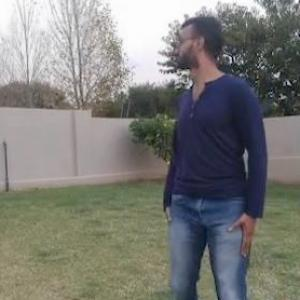follow: (162, 10, 271, 299)
